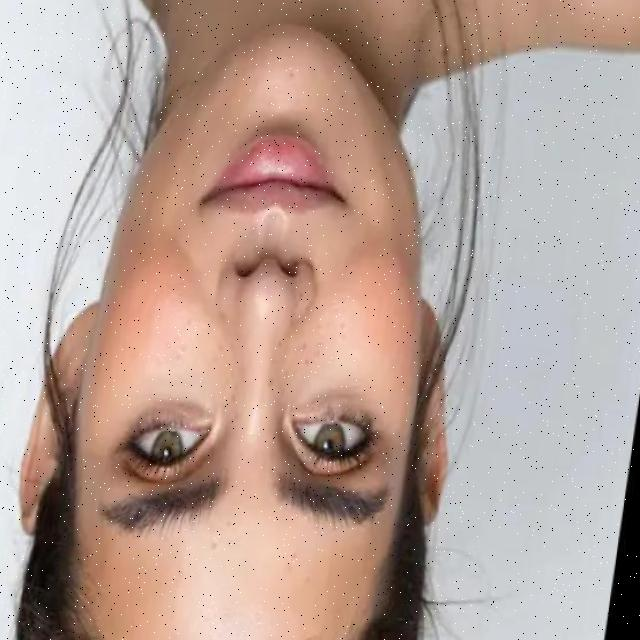puffy_eyes: (119, 385, 211, 428), (296, 385, 376, 421)
